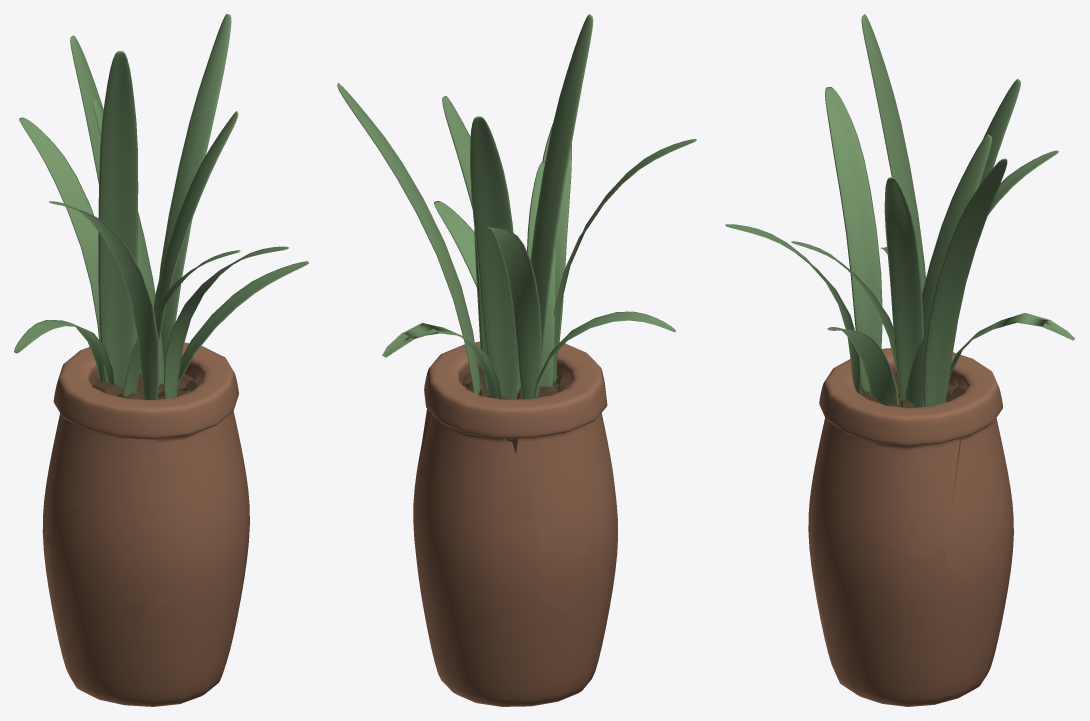
The model's file is Plant 02.fbx.
3 renders of one model, left to right at view 1: azimuth 30°, elevation 25°; view 2: azimuth 150°, elevation 25°; view 3: azimuth 270°, elevation 25°, orthographic. The views are drawn at different scales.
Visible parts, largest first — view 1: Plant_pot.002, Plant A, Plant_pot_cell.002, Leaf_A.008, Plant_pot_cell.004, Leaf_A.004, Leaf_A.002, Leaf_A.001, Plant_pot_cell.003, Leaf_A.005, Leaf_A.009, Leaf_A.007; view 2: Plant_pot_cell.001, Plant A, Plant_pot.002, Plant_pot_cell.002, Plant_pot_cell.003, Leaf_A.007, Leaf_A.008, Leaf_A.012, Leaf_A.001, Plant_pot_cell.004, Leaf_A.006, Leaf_A.004 (+2 smaller); view 3: Plant_pot.002, Plant A, Plant_pot_cell.002, Plant_pot_cell.001, Plant_pot_cell.003, Leaf_A.003, Leaf_A.008, Leaf_A.009, Leaf_A.002, Leaf_A.001, Leaf_A.005.
Boxes of the visible parts, <box> form: Plant_pot.002: <box>42,342,249,705</box>; Plant A: <box>14,14,308,398</box>; Plant_pot_cell.002: <box>49,495,249,706</box>; Leaf_A.008: <box>98,51,137,385</box>; Plant_pot_cell.004: <box>46,504,219,630</box>; Leaf_A.004: <box>53,203,159,399</box>; Leaf_A.002: <box>154,111,237,343</box>; Leaf_A.001: <box>70,35,136,345</box>; Plant_pot_cell.003: <box>43,351,210,531</box>; Leaf_A.005: <box>163,246,281,398</box>; Leaf_A.009: <box>178,262,302,386</box>; Leaf_A.007: <box>20,118,98,294</box>; Plant_pot_cell.001: <box>413,382,541,623</box>; Plant A: <box>337,14,696,399</box>; Plant_pot.002: <box>413,341,617,693</box>; Plant_pot_cell.002: <box>413,530,604,706</box>; Plant_pot_cell.003: <box>413,361,612,599</box>; Leaf_A.007: <box>489,227,541,399</box>; Leaf_A.008: <box>530,15,593,388</box>; Leaf_A.012: <box>527,161,556,387</box>; Leaf_A.001: <box>470,117,518,399</box>; Plant_pot_cell.004: <box>545,479,617,617</box>; Leaf_A.006: <box>382,323,501,398</box>; Leaf_A.004: <box>553,140,694,383</box>; Plant_pot.002: <box>808,348,1007,705</box>; Plant A: <box>725,15,1075,407</box>; Plant_pot_cell.002: <box>808,530,1007,706</box>; Plant_pot_cell.001: <box>945,370,1013,596</box>; Plant_pot_cell.003: <box>845,361,982,563</box>; Leaf_A.003: <box>924,158,1007,406</box>; Leaf_A.008: <box>861,14,925,288</box>; Leaf_A.009: <box>833,327,897,405</box>; Leaf_A.002: <box>884,177,916,398</box>; Leaf_A.001: <box>979,79,1020,186</box>; Leaf_A.005: <box>730,225,860,393</box>.
Bounding box in the file's own units: 69.03 × 157 × 77.85.
